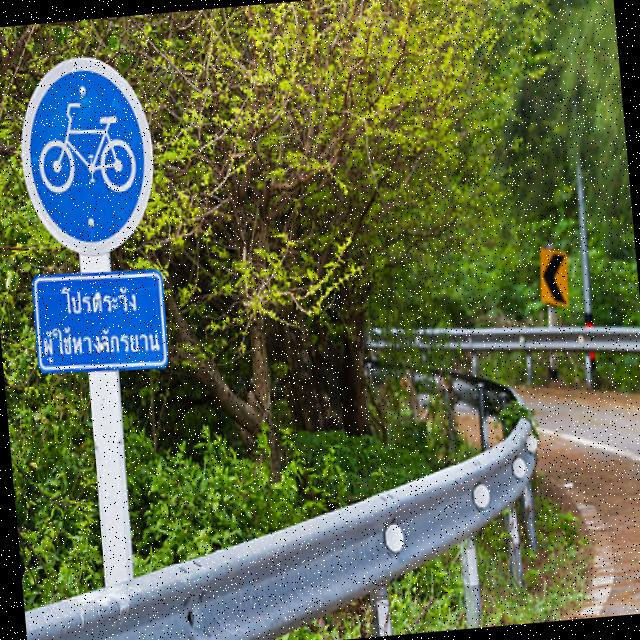bicycle: (11, 46, 178, 267)
